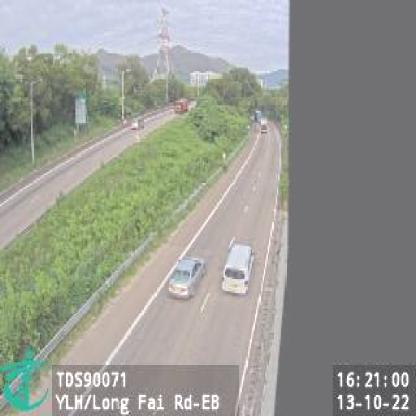Car: (220, 242, 257, 298), (168, 254, 206, 300)
Truck: (174, 97, 189, 115)
